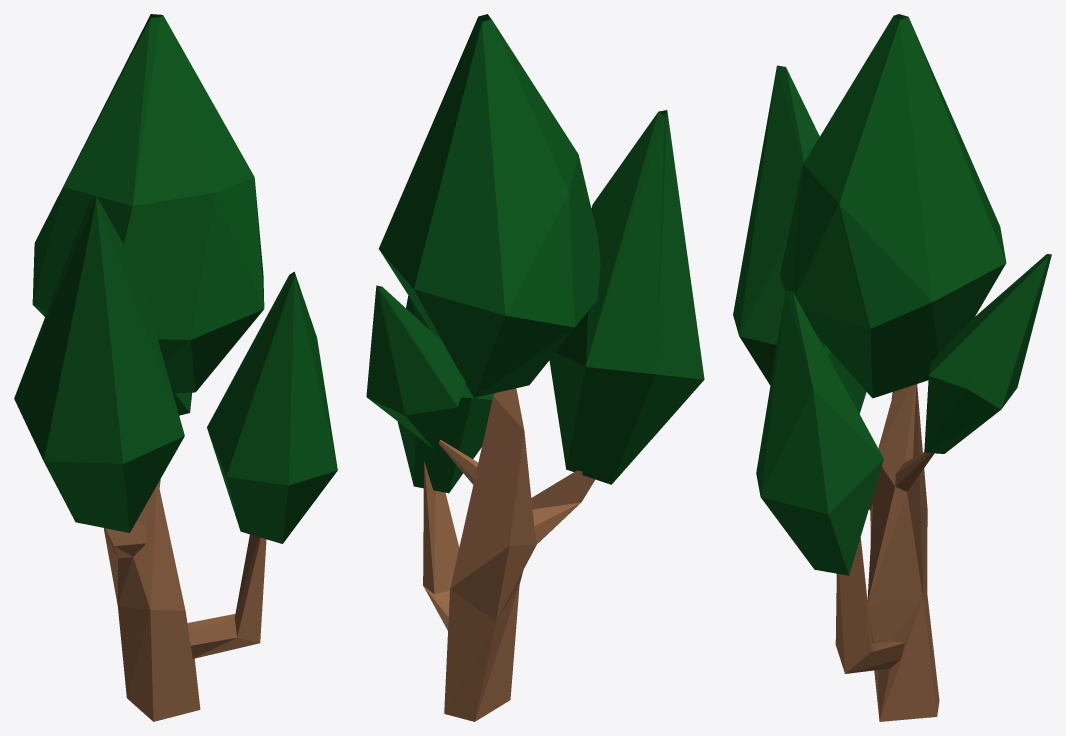
Rendered from tree-summer-complete-35-003.glb.
The picture shows the model from 3 angles, left to right: view 1: azimuth 30°, elevation 25°; view 2: azimuth 150°, elevation 25°; view 3: azimuth 270°, elevation 25°; orthographic projection.
Parts seen in each view (by area): view 1: Tree 35_61; view 2: Tree 35_61; view 3: Tree 35_61.
Boxes of the visible parts, x1=… form: Tree 35_61: x1=14, y1=14, x2=337, y2=721; Tree 35_61: x1=366, y1=14, x2=704, y2=721; Tree 35_61: x1=733, y1=14, x2=1051, y2=721.
Size of the model in its own units: 0.7417 by 1.65 by 0.6911.
